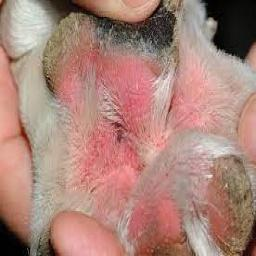pyoderma: (55, 19, 164, 211), (211, 142, 256, 255), (131, 178, 187, 256)
